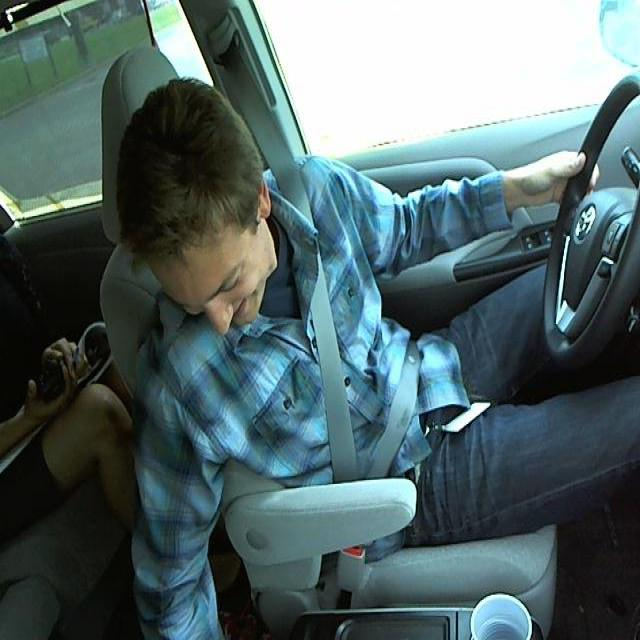seatbelt: (271, 179, 421, 525)
